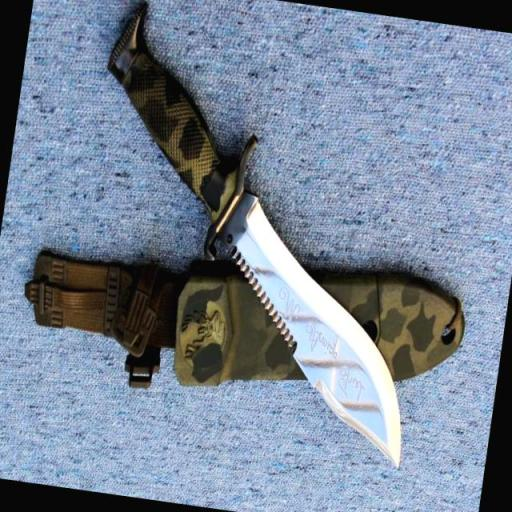knife: (196, 186, 440, 479)
